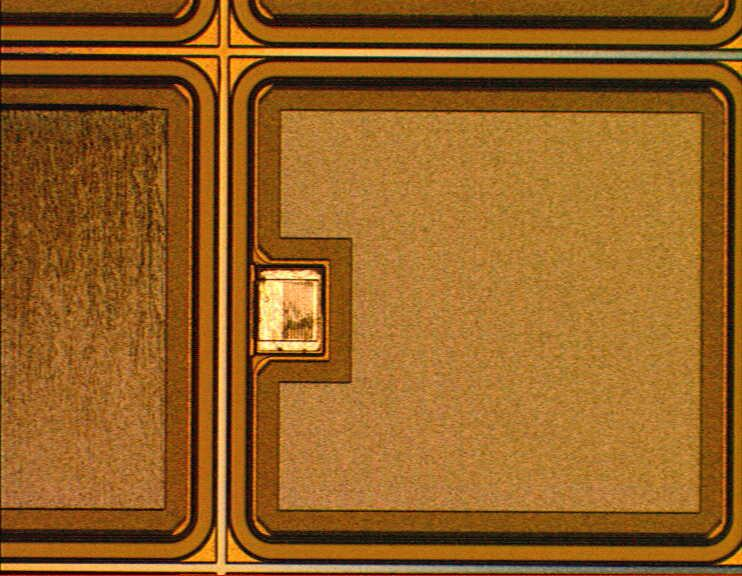SEZ BURNT: (2, 104, 168, 510), (256, 268, 327, 355)
